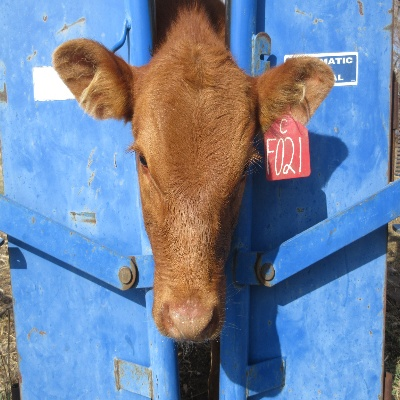fidget_spinner: (162, 301, 223, 347)
